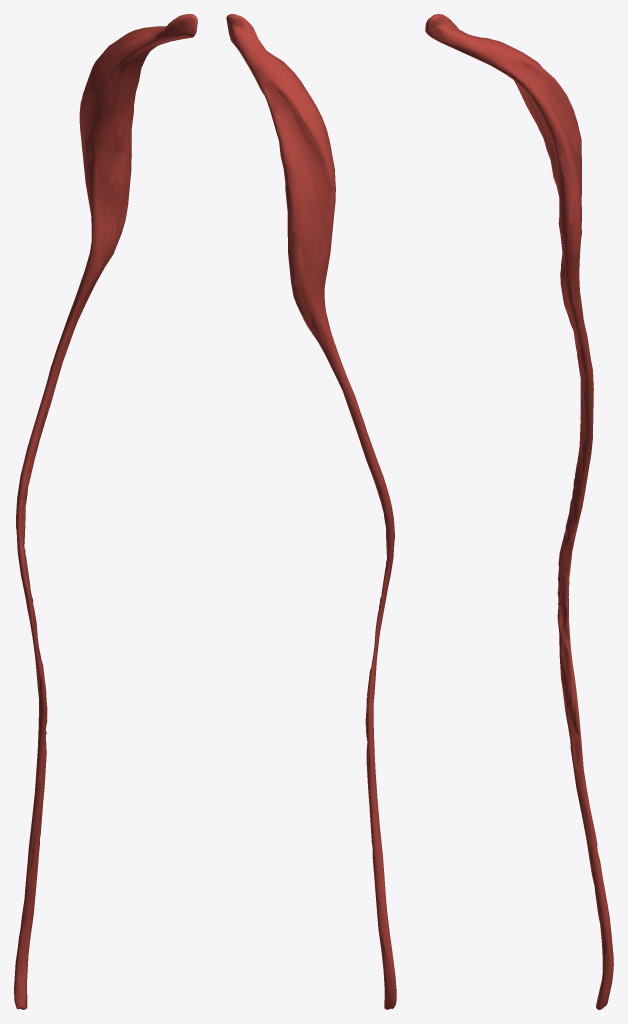
Rendered from musculos-plantaris-muscle-l.glb.
The picture shows the model from 3 angles, left to right: view 1: azimuth 30°, elevation 25°; view 2: azimuth 210°, elevation 25°; view 3: azimuth 270°, elevation 25°; orthographic projection. The views are drawn at different scales.
Visible parts, largest first — view 1: Plantaris muscle.l; view 2: Plantaris muscle.l; view 3: Plantaris muscle.l.
Boxes of the visible parts, x1=… form: Plantaris muscle.l: x1=14, y1=14, x2=197, y2=1009; Plantaris muscle.l: x1=226, y1=14, x2=396, y2=1009; Plantaris muscle.l: x1=425, y1=14, x2=613, y2=1009.
Bounding box in the file's own units: 0.0549 × 0.4823 × 0.0797.
